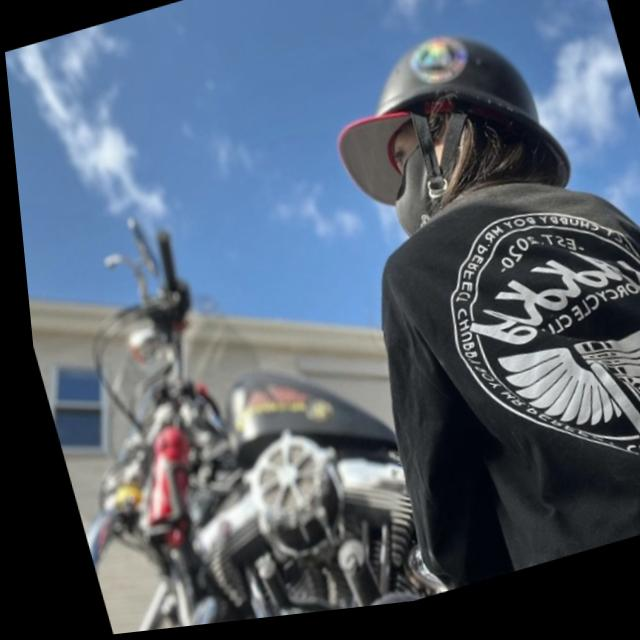illegal_helmet: (302, 11, 583, 271)
